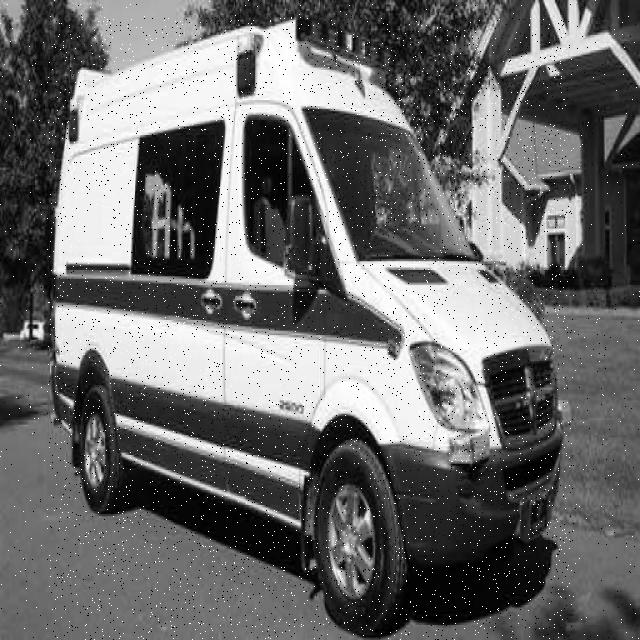Ambulance: (47, 17, 574, 640)
